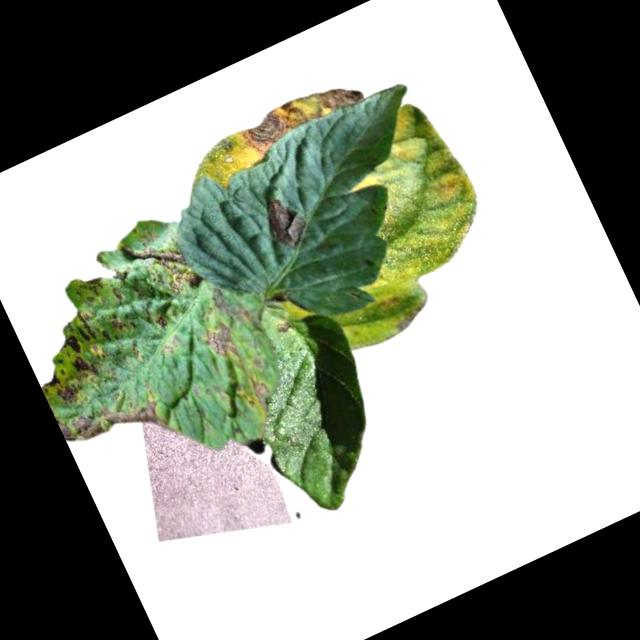Early_blight: (234, 68, 367, 159), (56, 377, 169, 470), (117, 223, 200, 309), (254, 186, 315, 256), (38, 363, 87, 414), (57, 327, 100, 385), (70, 300, 113, 352), (201, 318, 244, 365), (237, 370, 276, 417), (105, 305, 130, 333), (81, 272, 105, 294), (149, 311, 169, 331), (272, 317, 290, 334)
